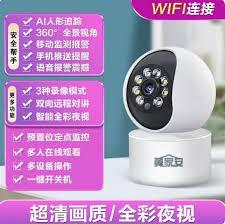maru: (120, 46, 216, 133)
